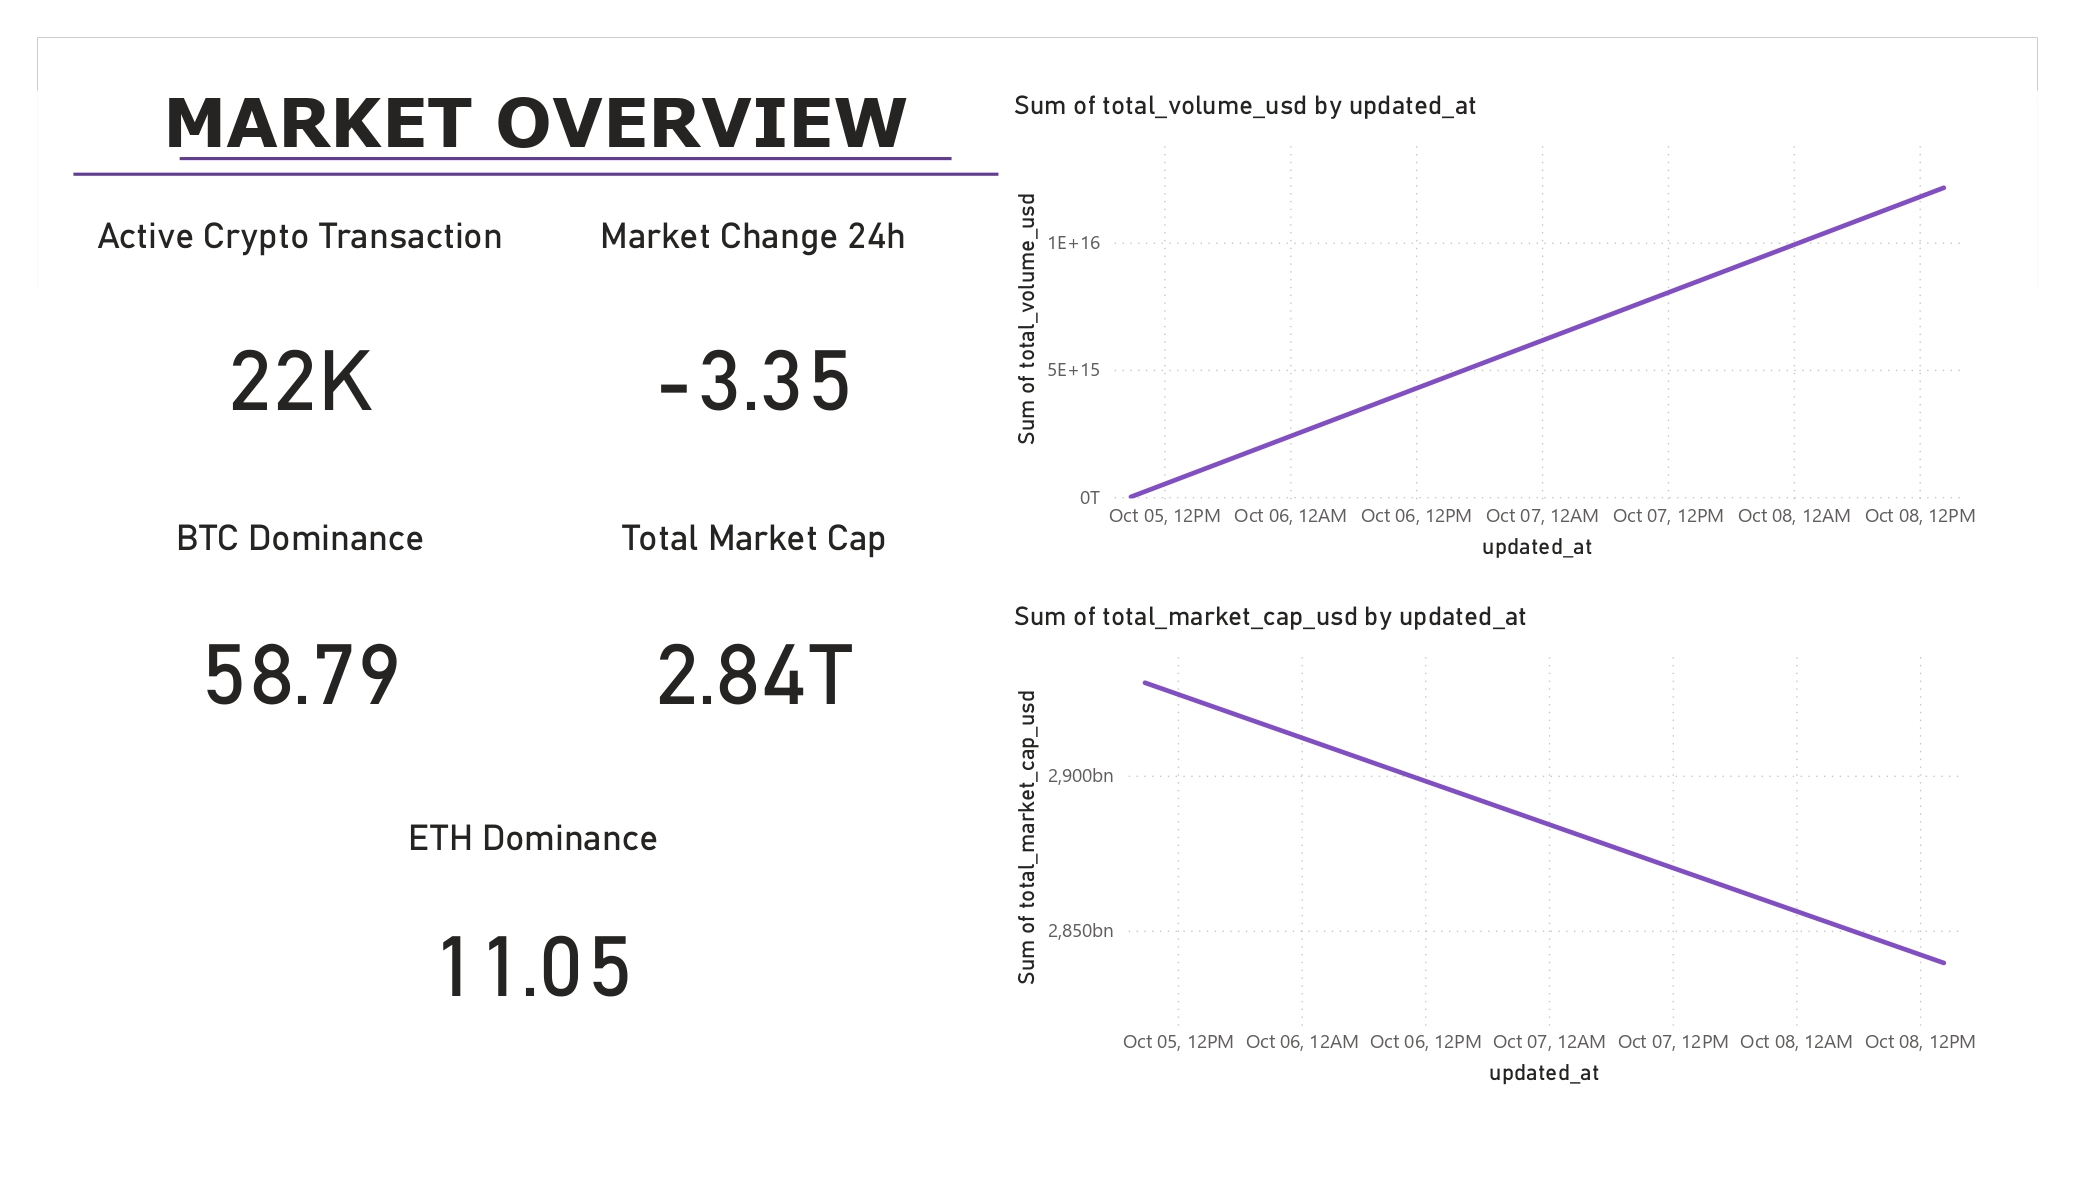

This screenshot's page, from the dashboard's own definition file:
{"tool":"powerbi","page":{"name":"Page 1","canvas":[1280,720],"ordinal":0},"visuals":[{"type":"card","title":"Active Crypto Transaction","fields":{"Values":["Sum(gold market_overview.active_cryptocurrencies)"]},"box":[28.3,114.3,280,169.8],"z":0},{"type":"card","title":"BTC Dominance","fields":{"Values":["Sum(gold market_overview.btc_dominance_pct)"]},"box":[28.3,306.7,280,160.6],"z":1000},{"type":"card","title":"ETH Dominance","fields":{"Values":["Sum(gold market_overview.eth_dominance_pct)"]},"box":[177.1,498.6,280,150],"z":2000},{"type":"card","title":"Market Change 24h","fields":{"Values":["Sum(gold market_overview.market_cap_change_pct_24h_usd)"]},"box":[317.6,114.3,280,169.8],"z":3000},{"type":"card","title":"Total Market Cap","fields":{"Values":["Sum(gold market_overview.total_market_cap_usd)"]},"box":[317.6,306.7,281.3,160.6],"z":4000},{"type":"lineChart","fields":{"Category":["gold market_history.updated_at"],"Y":["Sum(gold market_history.total_market_cap_usd)"]},"box":[619.7,359.6,640.9,315.8],"z":5000},{"type":"lineChart","fields":{"Category":["gold market_history.updated_at"],"Y":["Sum(gold market_history.total_volume_usd)"]},"box":[619.7,33.2,640.9,305.2],"z":6000},{"type":"textbox","box":[52,22,534,70],"z":6001},{"type":"shape","box":[91.1,67,493.6,20.9],"z":6002},{"type":"shape","box":[22.9,77,591.8,20.9],"z":6003}]}

Visuals, with their boxes on the page's 1280x720 design canvas (x1, y1, x2, y2). These are canvas units, not pixel positions in the 2075x1200 screenshot, which may show the page scaled, cropped or inside an application window:
"Active Crypto Transaction" card: 28, 114, 308, 284
"BTC Dominance" card: 28, 307, 308, 467
"ETH Dominance" card: 177, 499, 457, 649
"Market Change 24h" card: 318, 114, 598, 284
"Total Market Cap" card: 318, 307, 599, 467
lineChart - gold market_history.updated_at x Sum(gold market_history.total_market_cap_usd): 620, 360, 1261, 675
lineChart - gold market_history.updated_at x Sum(gold market_history.total_volume_usd): 620, 33, 1261, 338
textbox: 52, 22, 586, 92
shape: 91, 67, 585, 88
shape: 23, 77, 615, 98
